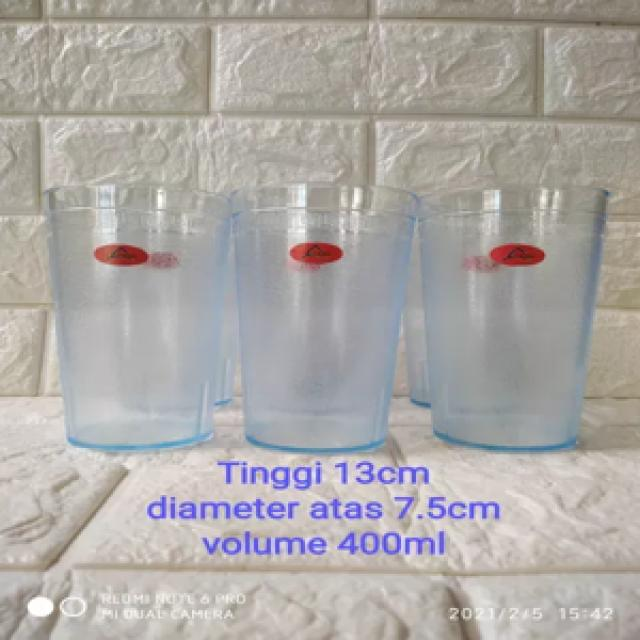plastic cup: (36, 173, 237, 461), (416, 179, 617, 463), (226, 175, 425, 461)
